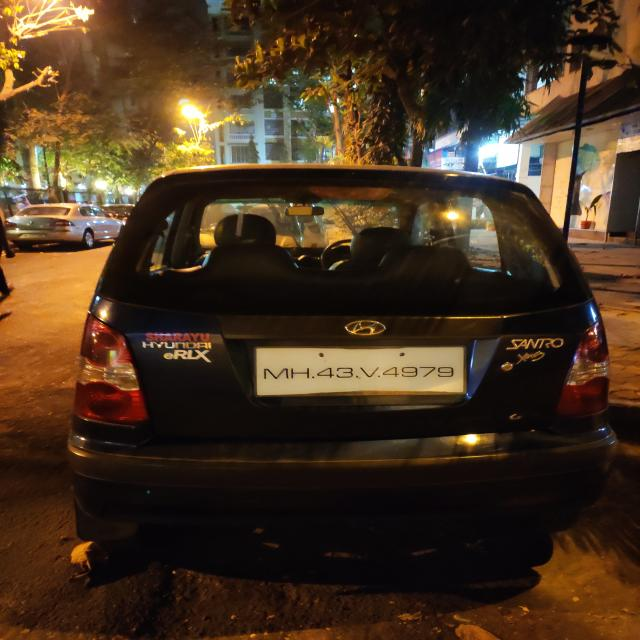Number-Plate: (258, 349, 471, 391)
